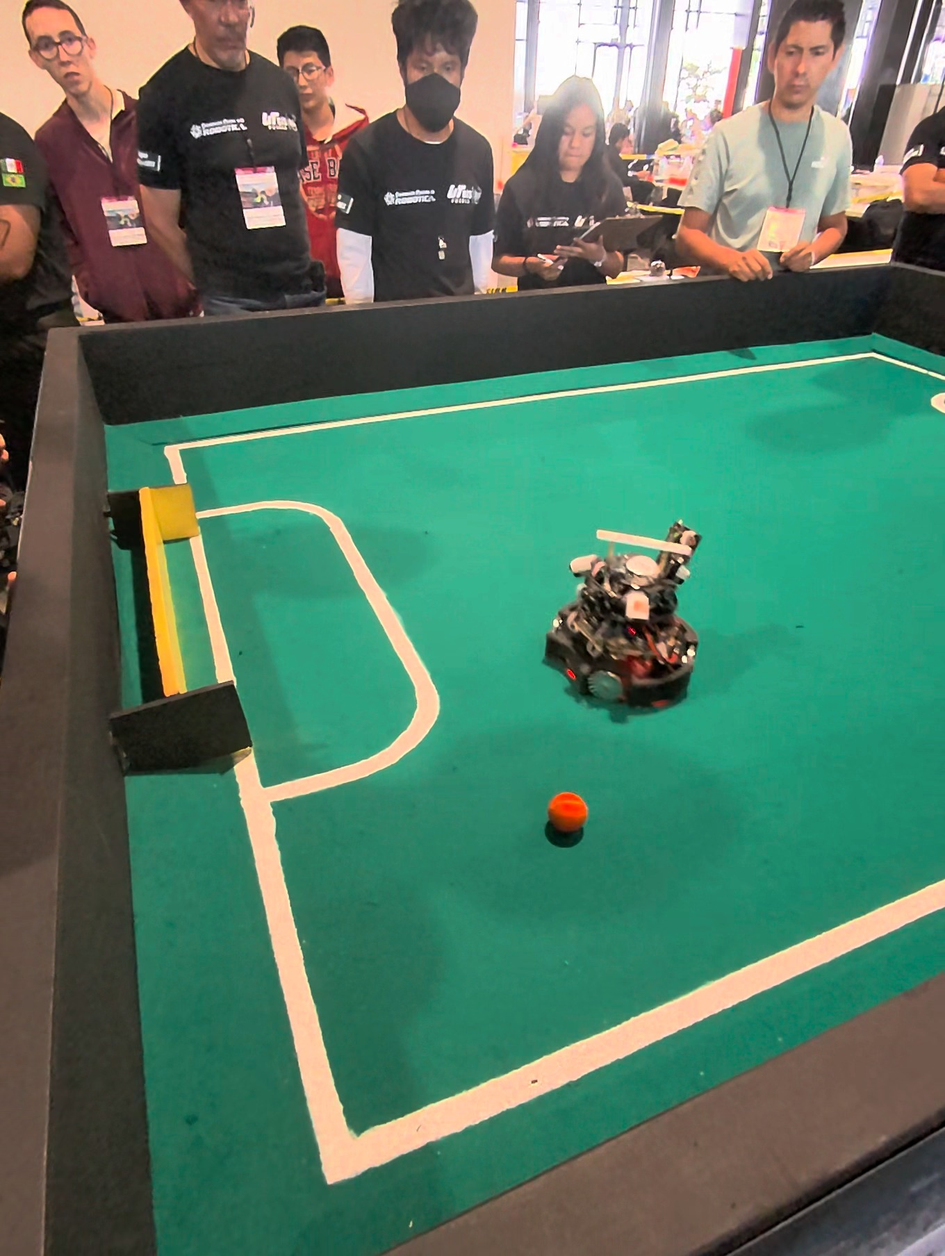Robot: (542, 497, 708, 721)
pelota: (548, 796, 591, 844)
